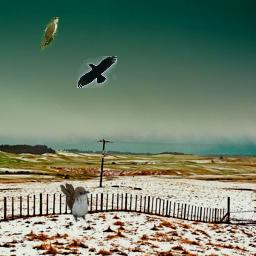Crow: (77, 56, 117, 88)
Cuckoo: (60, 183, 90, 223), (40, 17, 59, 55)
